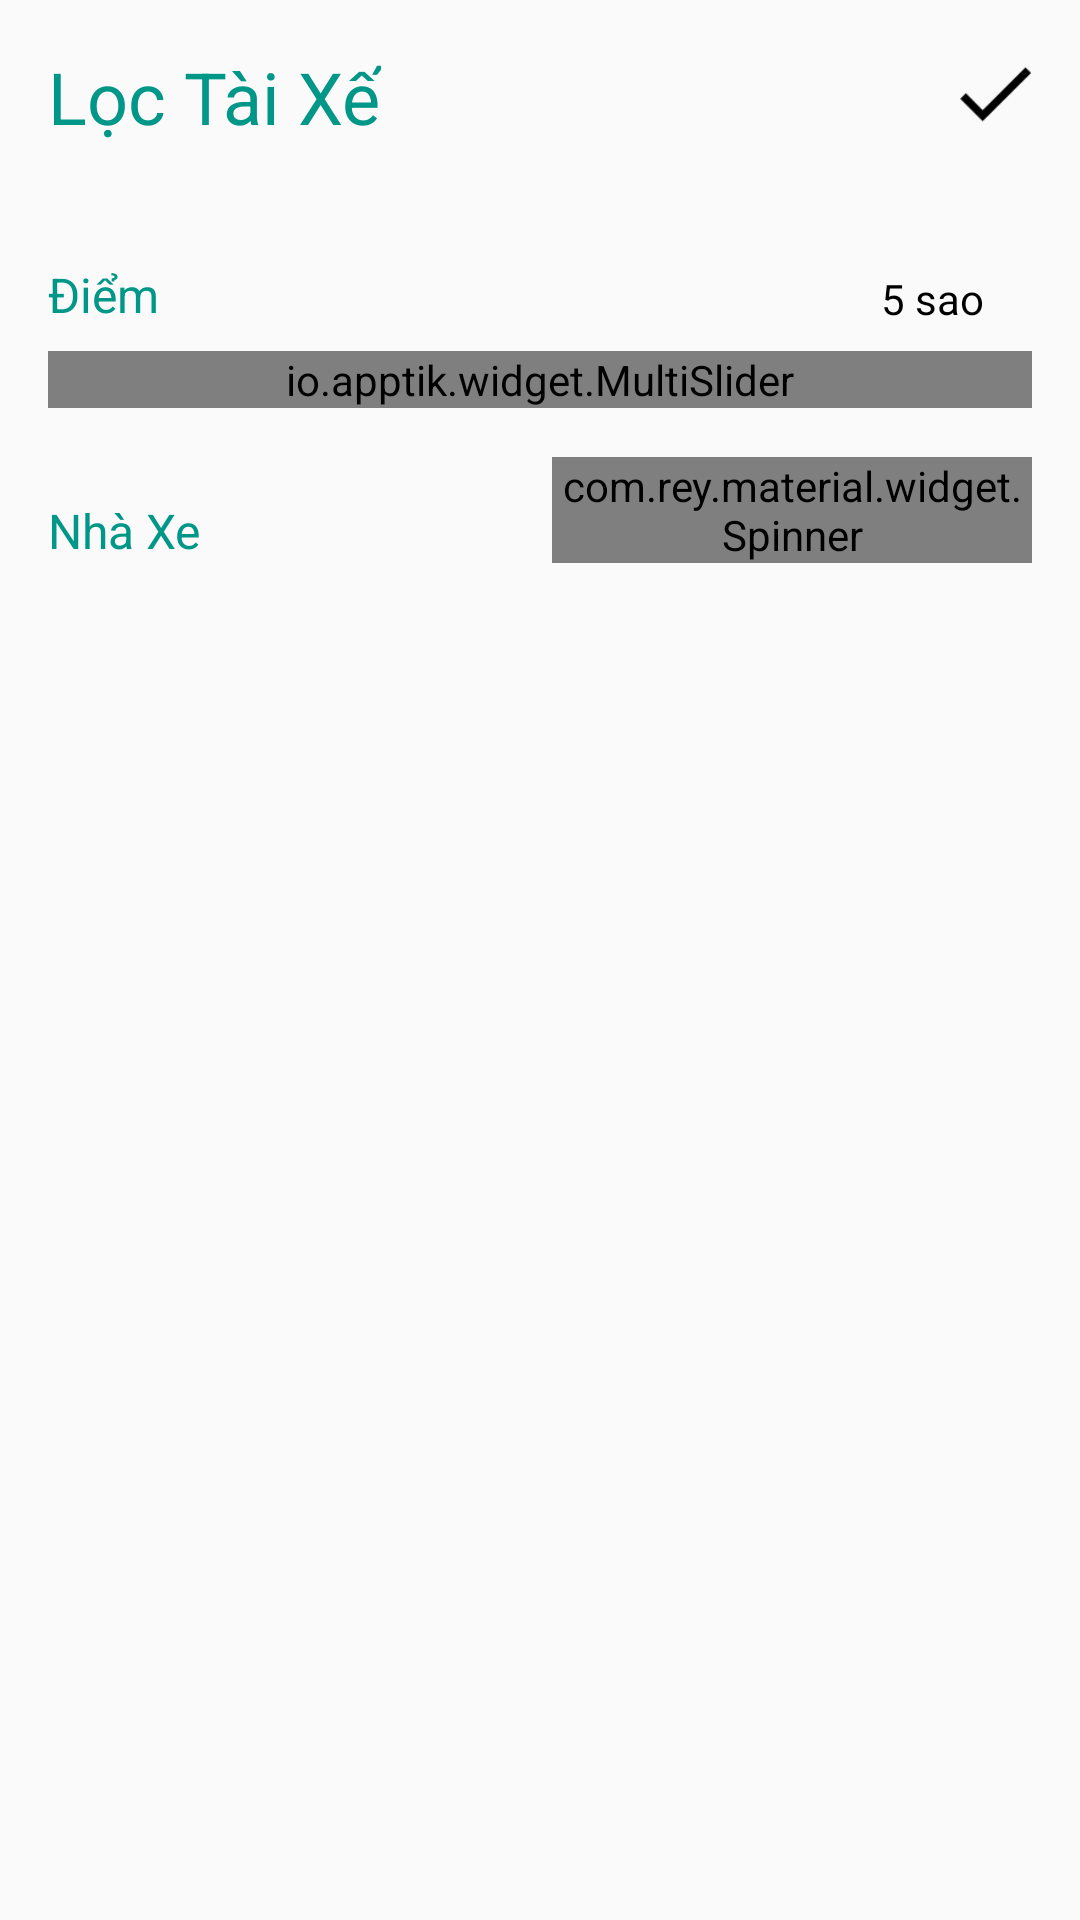

Screen size 1080x1920. Icon name, then its center in pixels as point (x, y):
done: point (995, 94)
